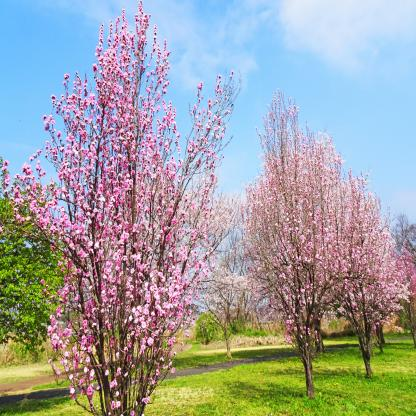Momo: (0, 0, 247, 416), (240, 88, 346, 372), (333, 164, 406, 359), (200, 191, 252, 336), (395, 242, 416, 352)
